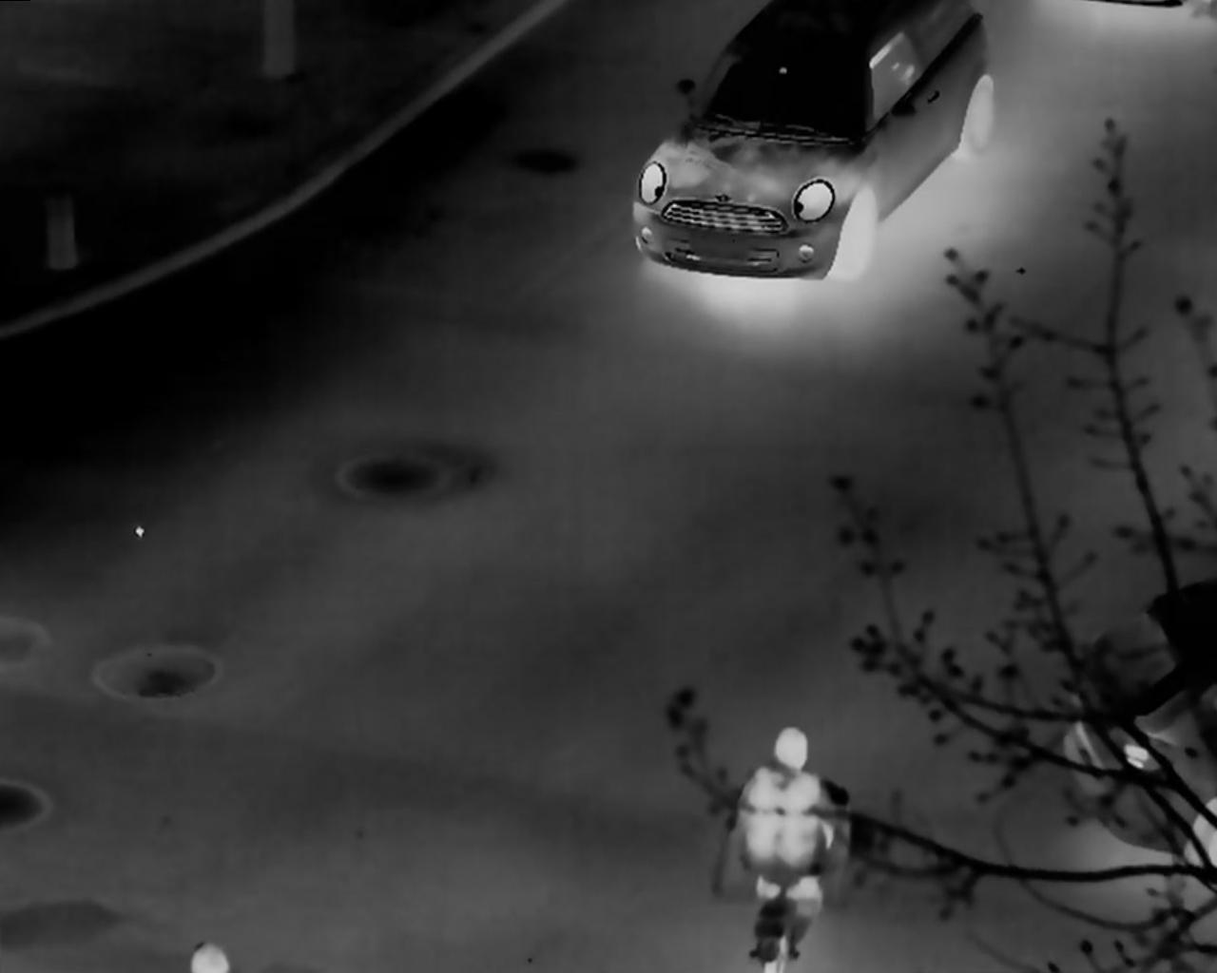person: (744, 721, 834, 938)
